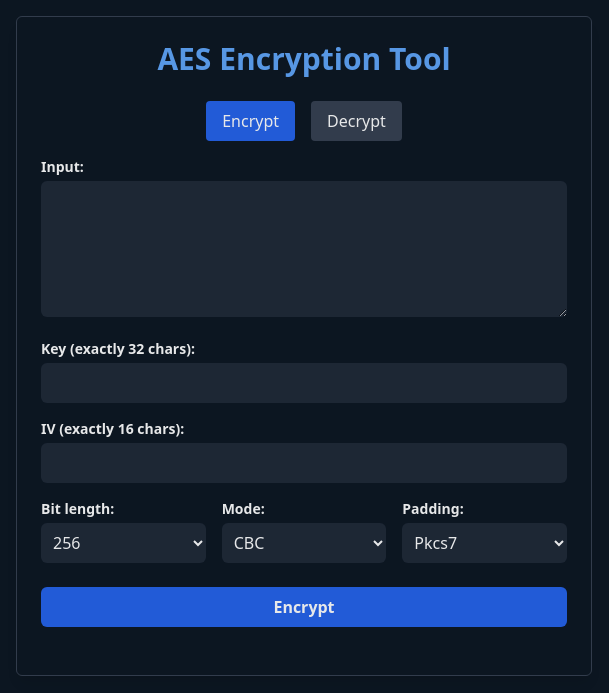
Test: EncryptionTool component › updates required key length on bit length change
The width and height of the screenshot is (609, 693).
# change bit length
Select "128" in the dropdown labelled "Bit length:" at {"x": 123, "y": 543}, box [41,523,206,563]
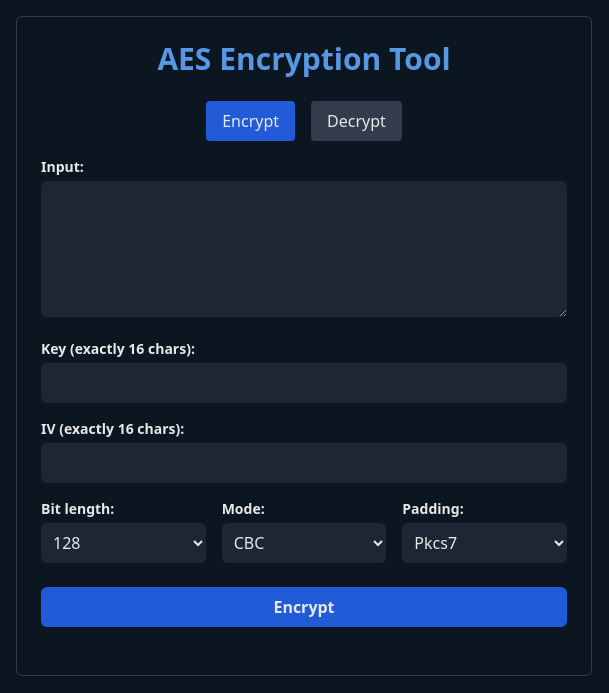
expect the text "Key (exactly 16 chars):" is shown: met, box [41,339,195,358]
